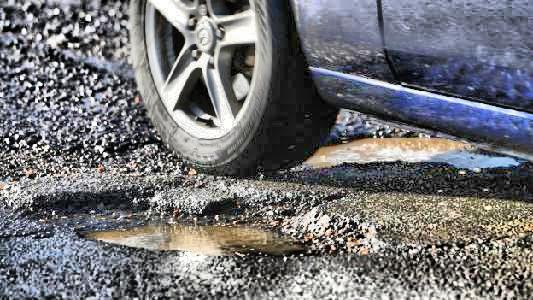pothole: (21, 186, 383, 261), (336, 133, 447, 174)
